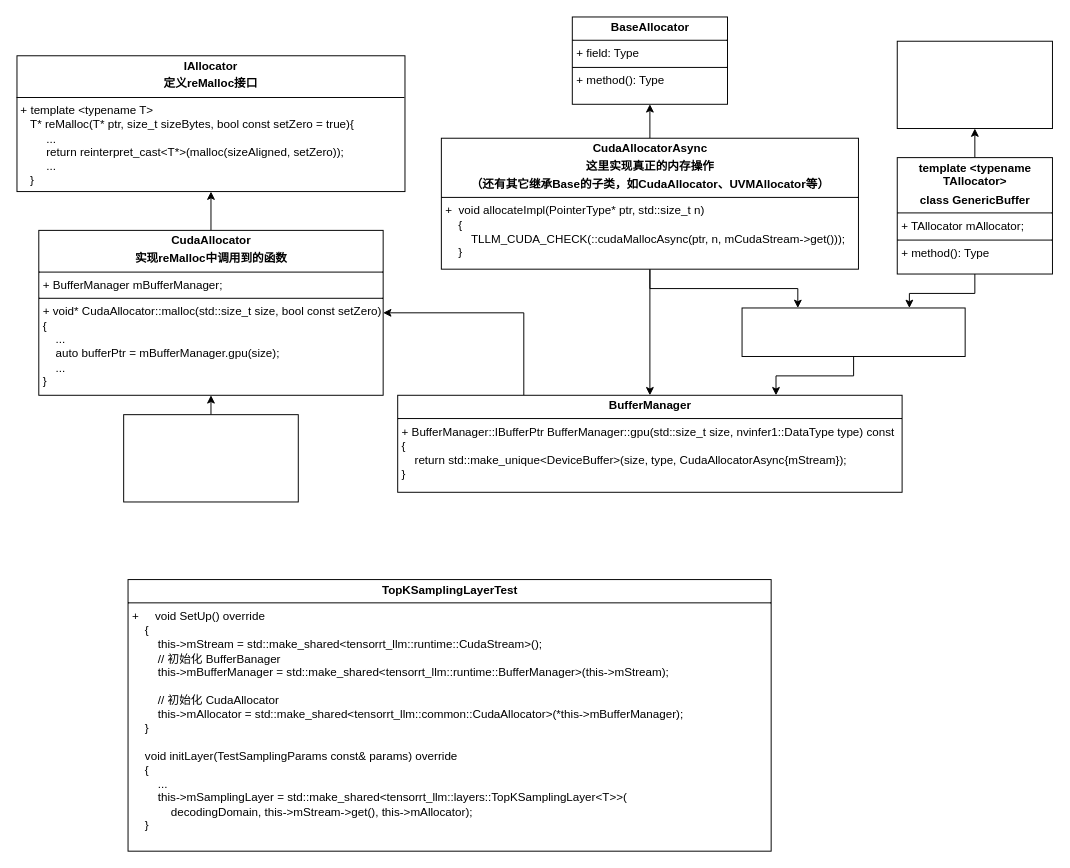
Some shapes in this 1070 by 868 pixel diagram are drawn without their labels. Each missing label, with the centre of its shape:
IBuffer + field: Type + method(): Type: the point at 974,84
tllm各层使用 beamSearchLayer dynamicDecoderLayer topKSamplingLayer ...: the point at 210,458
using DeviceBuffer = GenericBuffer<CudaAllocatorAsync>: the point at 853,331
